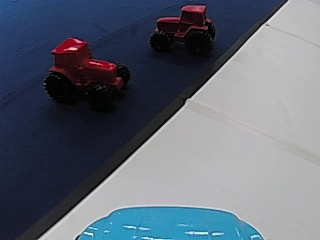Tracktor: (37, 33, 143, 104), (150, 4, 218, 54)
